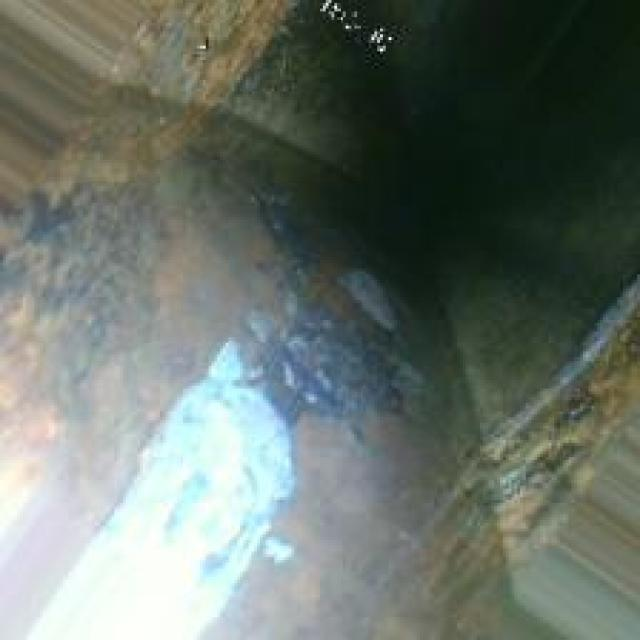stone: (214, 292, 406, 528)
